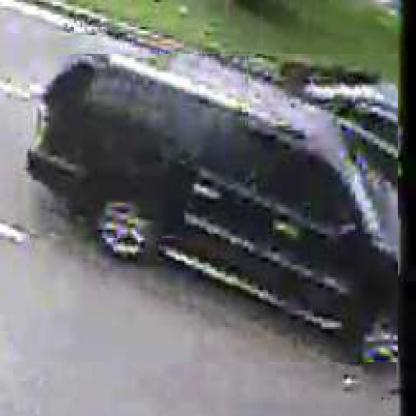car: (31, 55, 401, 365)
